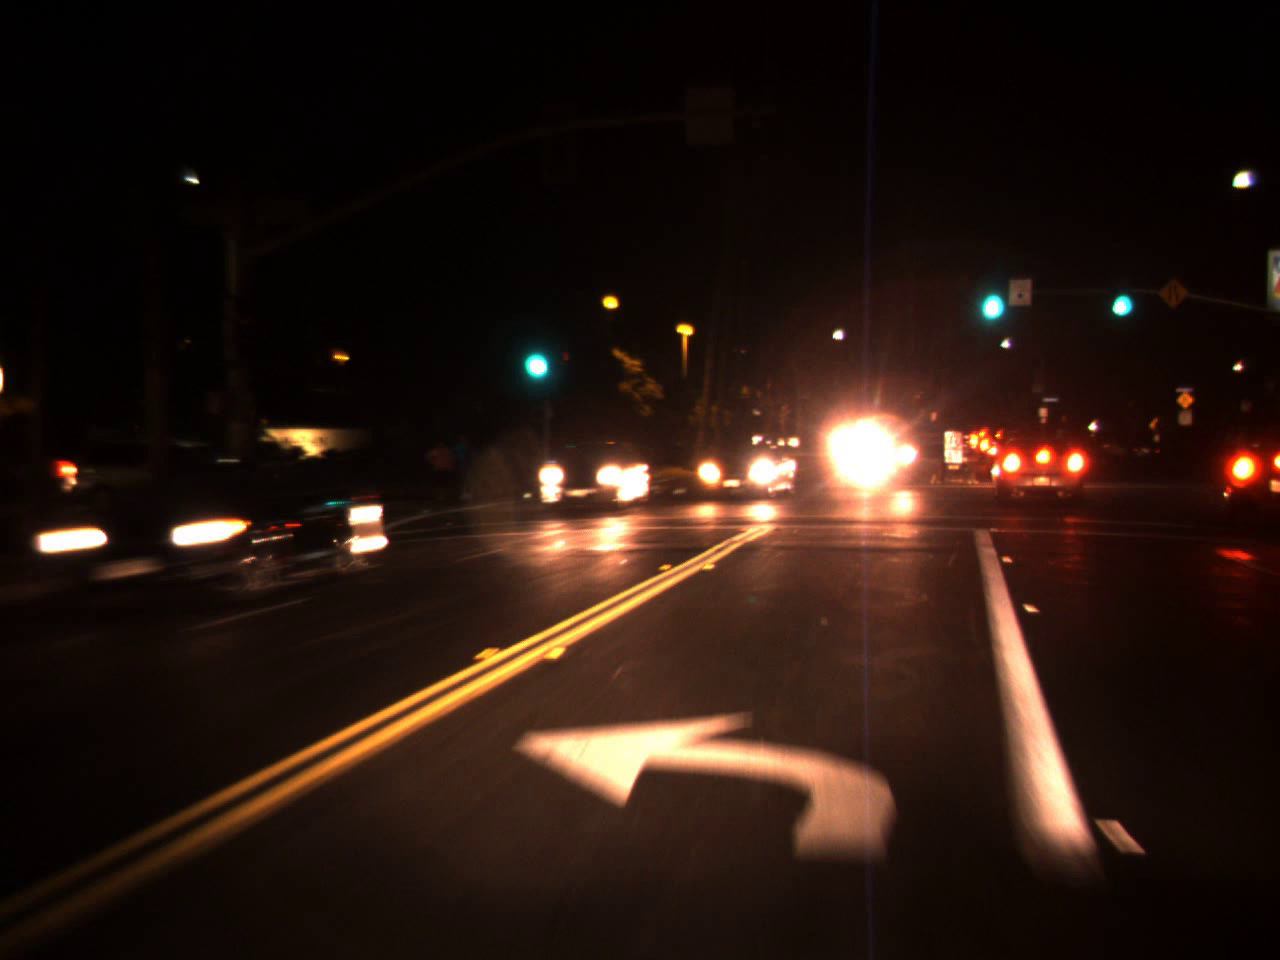go: (515, 322, 554, 388), (973, 263, 1009, 329), (1104, 267, 1136, 324)
